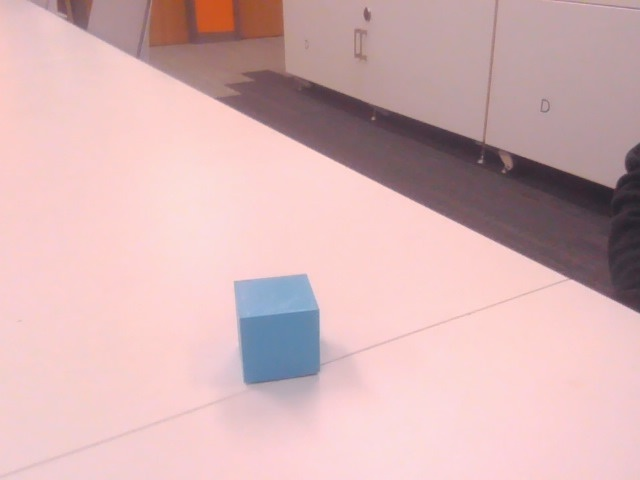cube: (233, 275, 321, 384)
